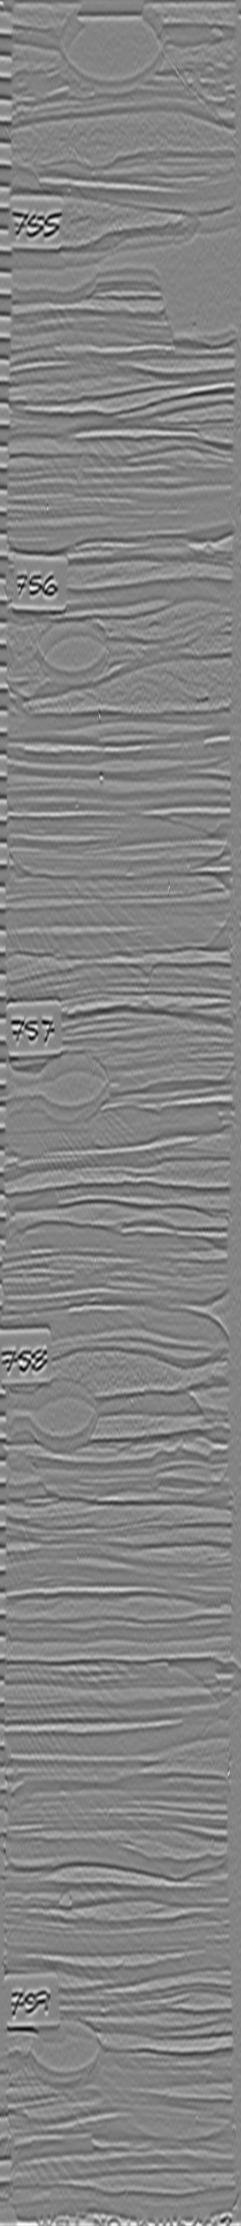hplug: (23, 2009, 111, 2093), (28, 612, 119, 689), (26, 1051, 119, 1124), (26, 1378, 103, 1459), (28, 231, 106, 307)
scal: (51, 6, 173, 97)
vplug: (135, 1283, 223, 1491), (160, 212, 241, 359)
